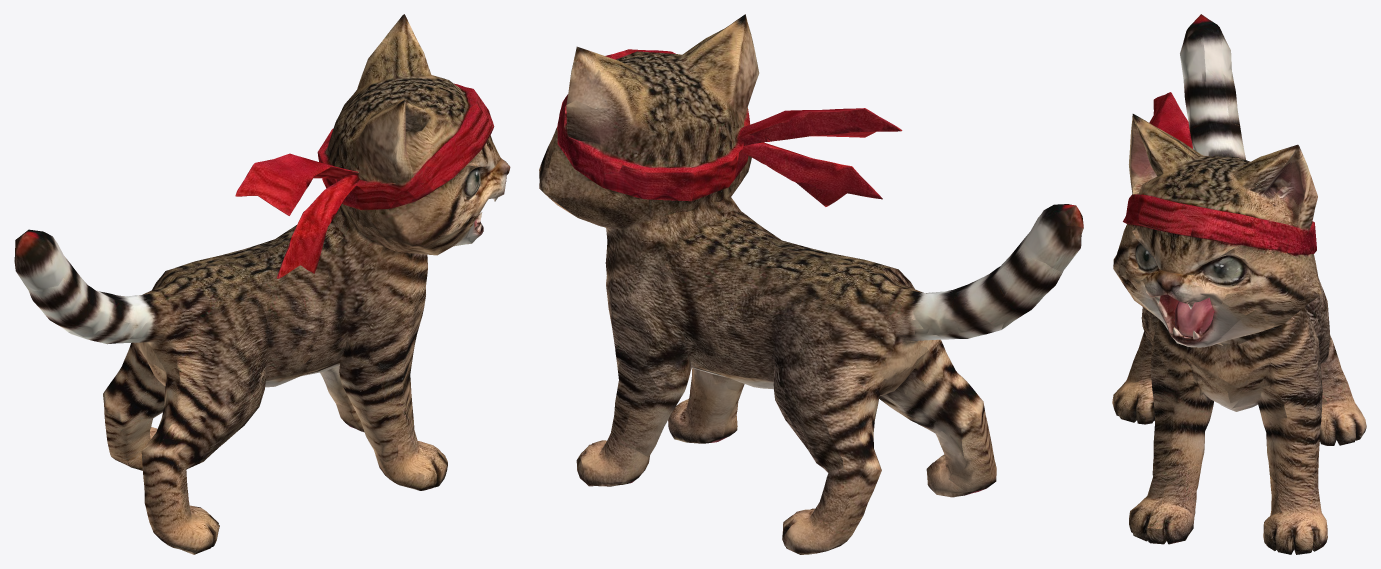
The model's file is SAVEPAWS.glb.
3 views of the same model, side by side, from view 1: azimuth 30°, elevation 25°; view 2: azimuth 150°, elevation 25°; view 3: azimuth 270°, elevation 25° (orthographic). The views are drawn at different scales.
Parts seen in each view (by area): view 1: fit; view 2: fit; view 3: fit.
Part boxes in pixels (<box>): fit: <box>14,14,510,554</box>; fit: <box>539,14,1083,554</box>; fit: <box>1112,14,1366,554</box>.
Bounding box in the file's own units: 1.25 × 1 × 0.5544.
1 material, 1 textured.
